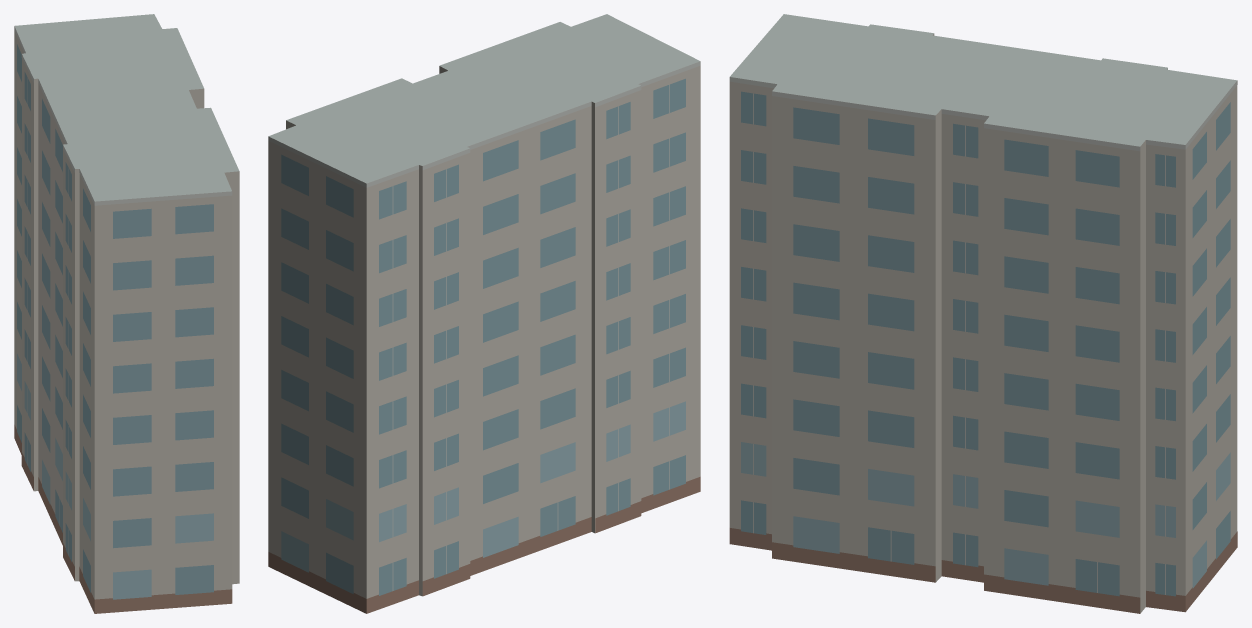
The model's file is survey-upis-32653298.glb.
3 renders of one model, left to right at view 1: azimuth 30°, elevation 25°; view 2: azimuth 150°, elevation 25°; view 3: azimuth 270°, elevation 25°, orthographic. The views are drawn at different scales.
Parts seen in each view (by area): view 1: survey-upis-32653298.tmp; view 2: survey-upis-32653298.tmp; view 3: survey-upis-32653298.tmp.
Boxes of the visible parts, x1,y1,x2,y2 form: survey-upis-32653298.tmp: (14, 14, 239, 613); survey-upis-32653298.tmp: (268, 14, 700, 613); survey-upis-32653298.tmp: (729, 14, 1237, 613).
Bounding box in the file's own units: 14.88 × 24.4 × 24.05.
